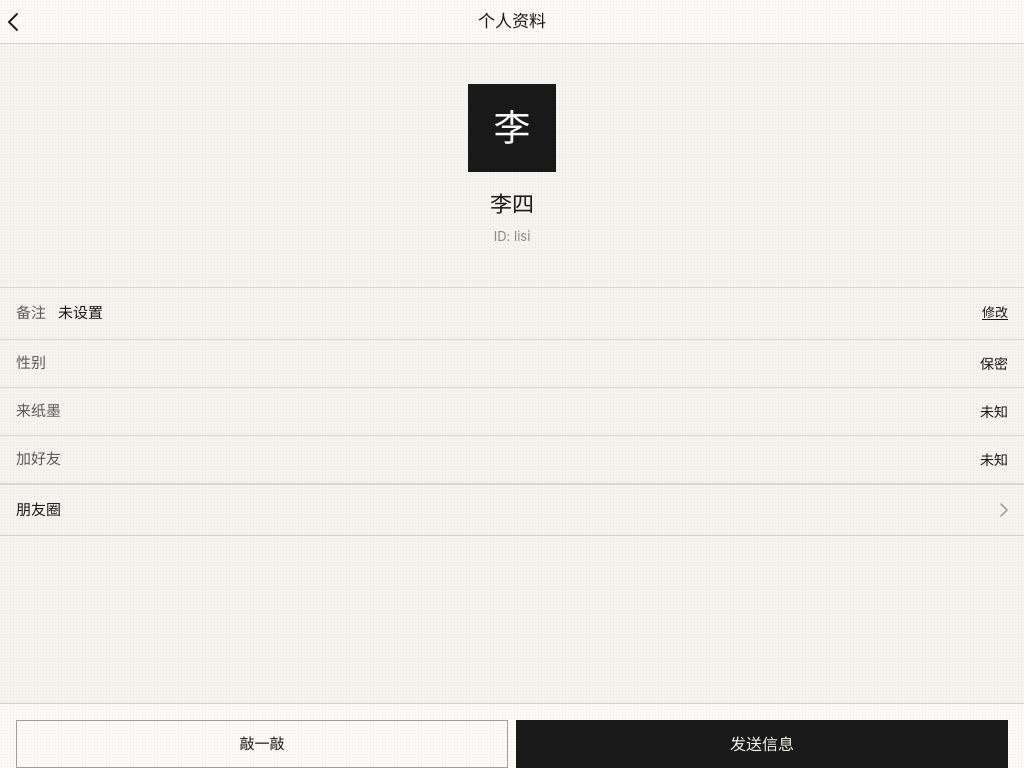
FriendProfile 好友资料页 › 点击发送信息跳转到聊天详情页并携带 userId
Step 1. Click the button with test id "send-message-btn" → (762, 744), box x1=516 y1=720 x2=1008 y2=767
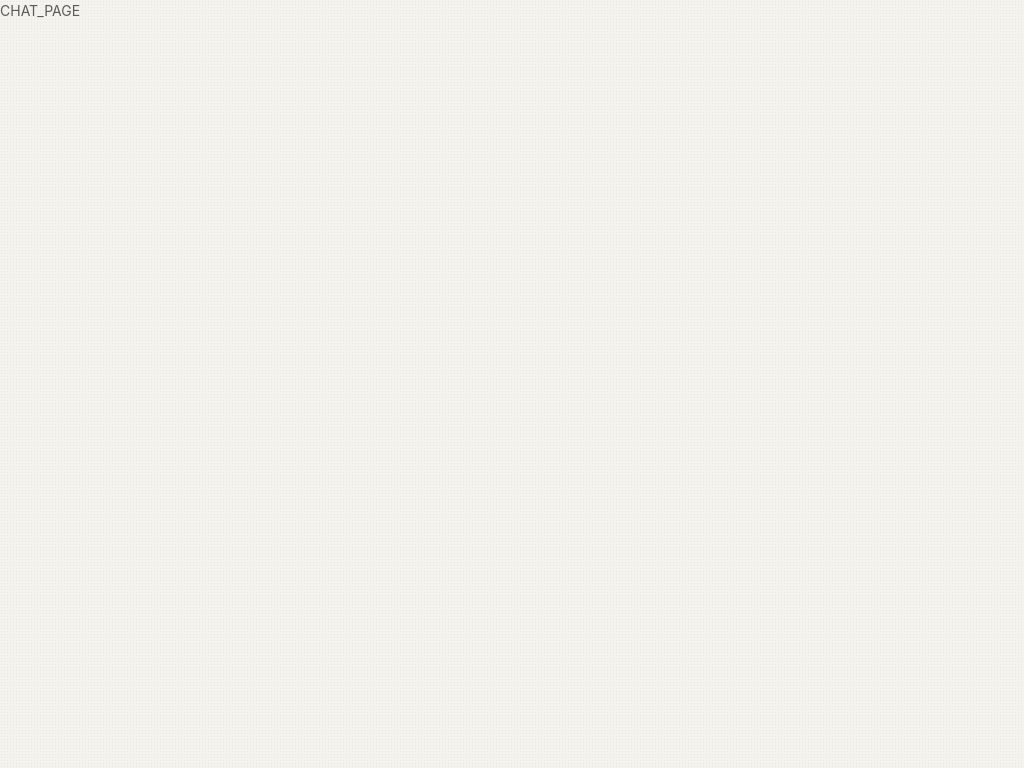
Expected: the text "CHAT_PAGE" is shown, x1=0 y1=2 x2=80 y2=19
